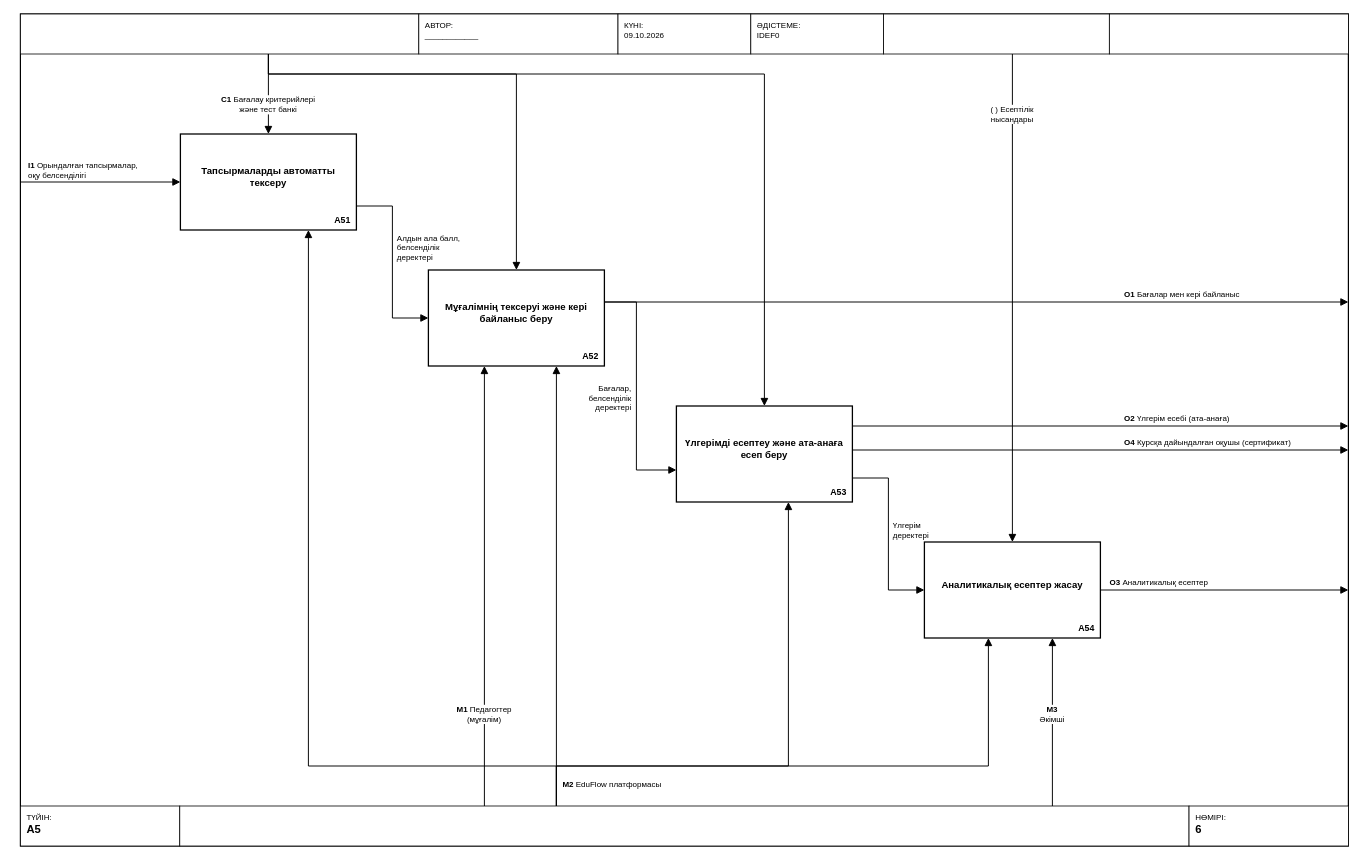
The diagram is 1370 pixels wide and 861 high, and some of its shapes have lost their labels. The centre of each missing label's shape, as x and y in pixels:
"АТАУЫ: Нәтижелерді бағалау және үлгерімді бақылау" belongs at point 684,825.
"ЖОБА: EduFlow — балаларды курсқа дайындау жүйесі" belongs at point 219,33.
"КОНТЕКСТ: A0 → A5 (2-деңгей)" belongs at point 1228,33.
"КҮЙІ: ■ Жұмыс нұсқасы □ Бекітілген" belongs at point 996,33.
